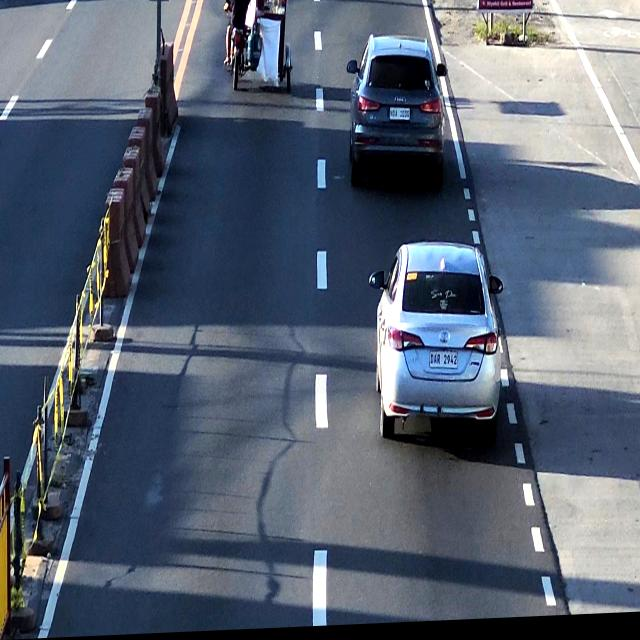Car: (377, 245, 501, 448), (344, 36, 445, 198)
License-Plate: (430, 350, 462, 373), (390, 108, 412, 128)
Tricycle: (226, 0, 292, 93)
